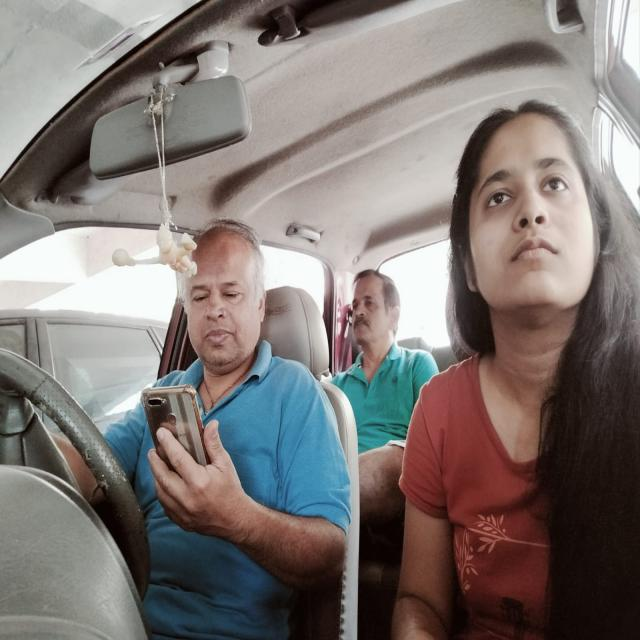mobile: (135, 384, 232, 518)
person: (446, 93, 601, 327), (182, 226, 281, 374), (344, 262, 401, 356)
